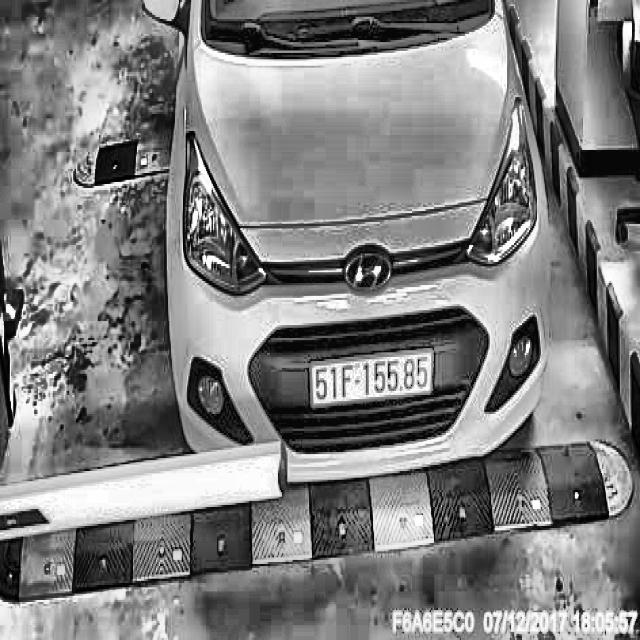plate: (306, 343, 438, 412)
